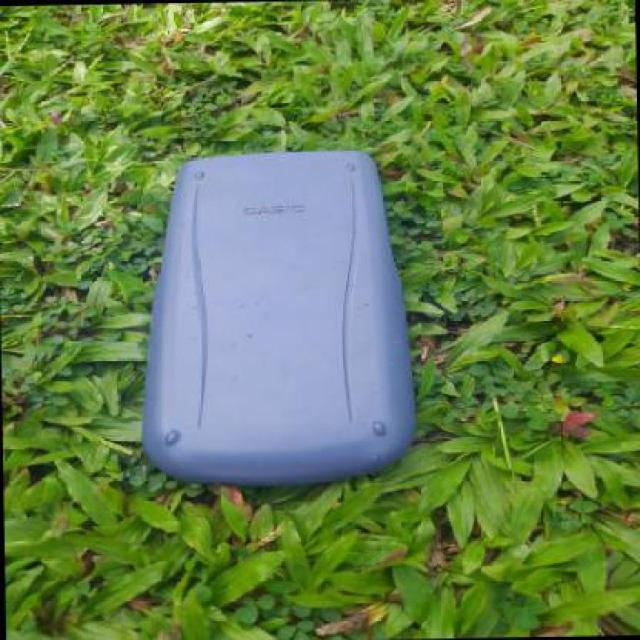Calculator: (131, 138, 424, 488)
